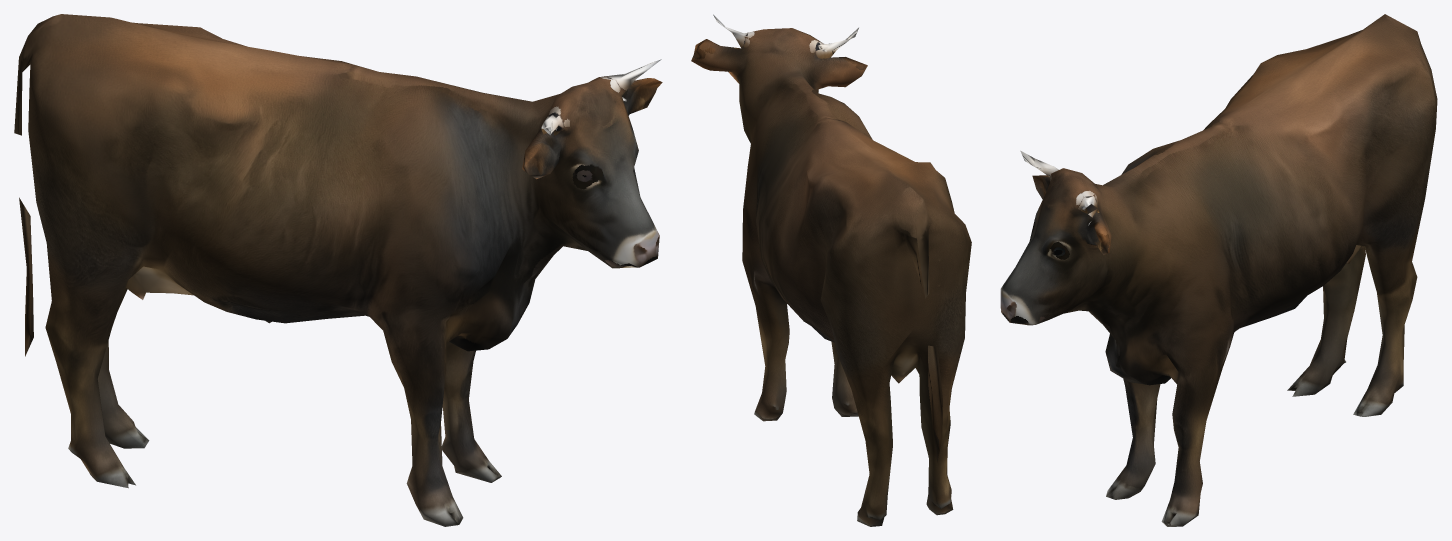
Rendered from cow_cold_single_1500.glb.
The picture shows the model from 3 angles, left to right: view 1: azimuth 30°, elevation 25°; view 2: azimuth 150°, elevation 25°; view 3: azimuth 270°, elevation 25°; orthographic projection. The views are drawn at different scales.
Size of the model in its own units: 0.8746 by 0.7834 by 0.8065.
1 material, 1 textured.
